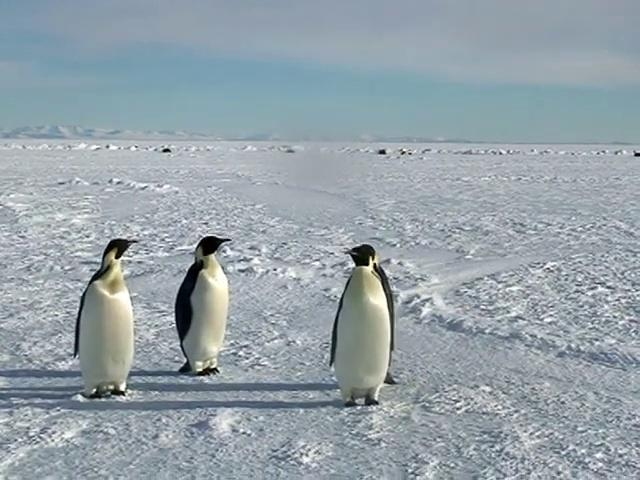animal: (330, 244, 394, 405)
